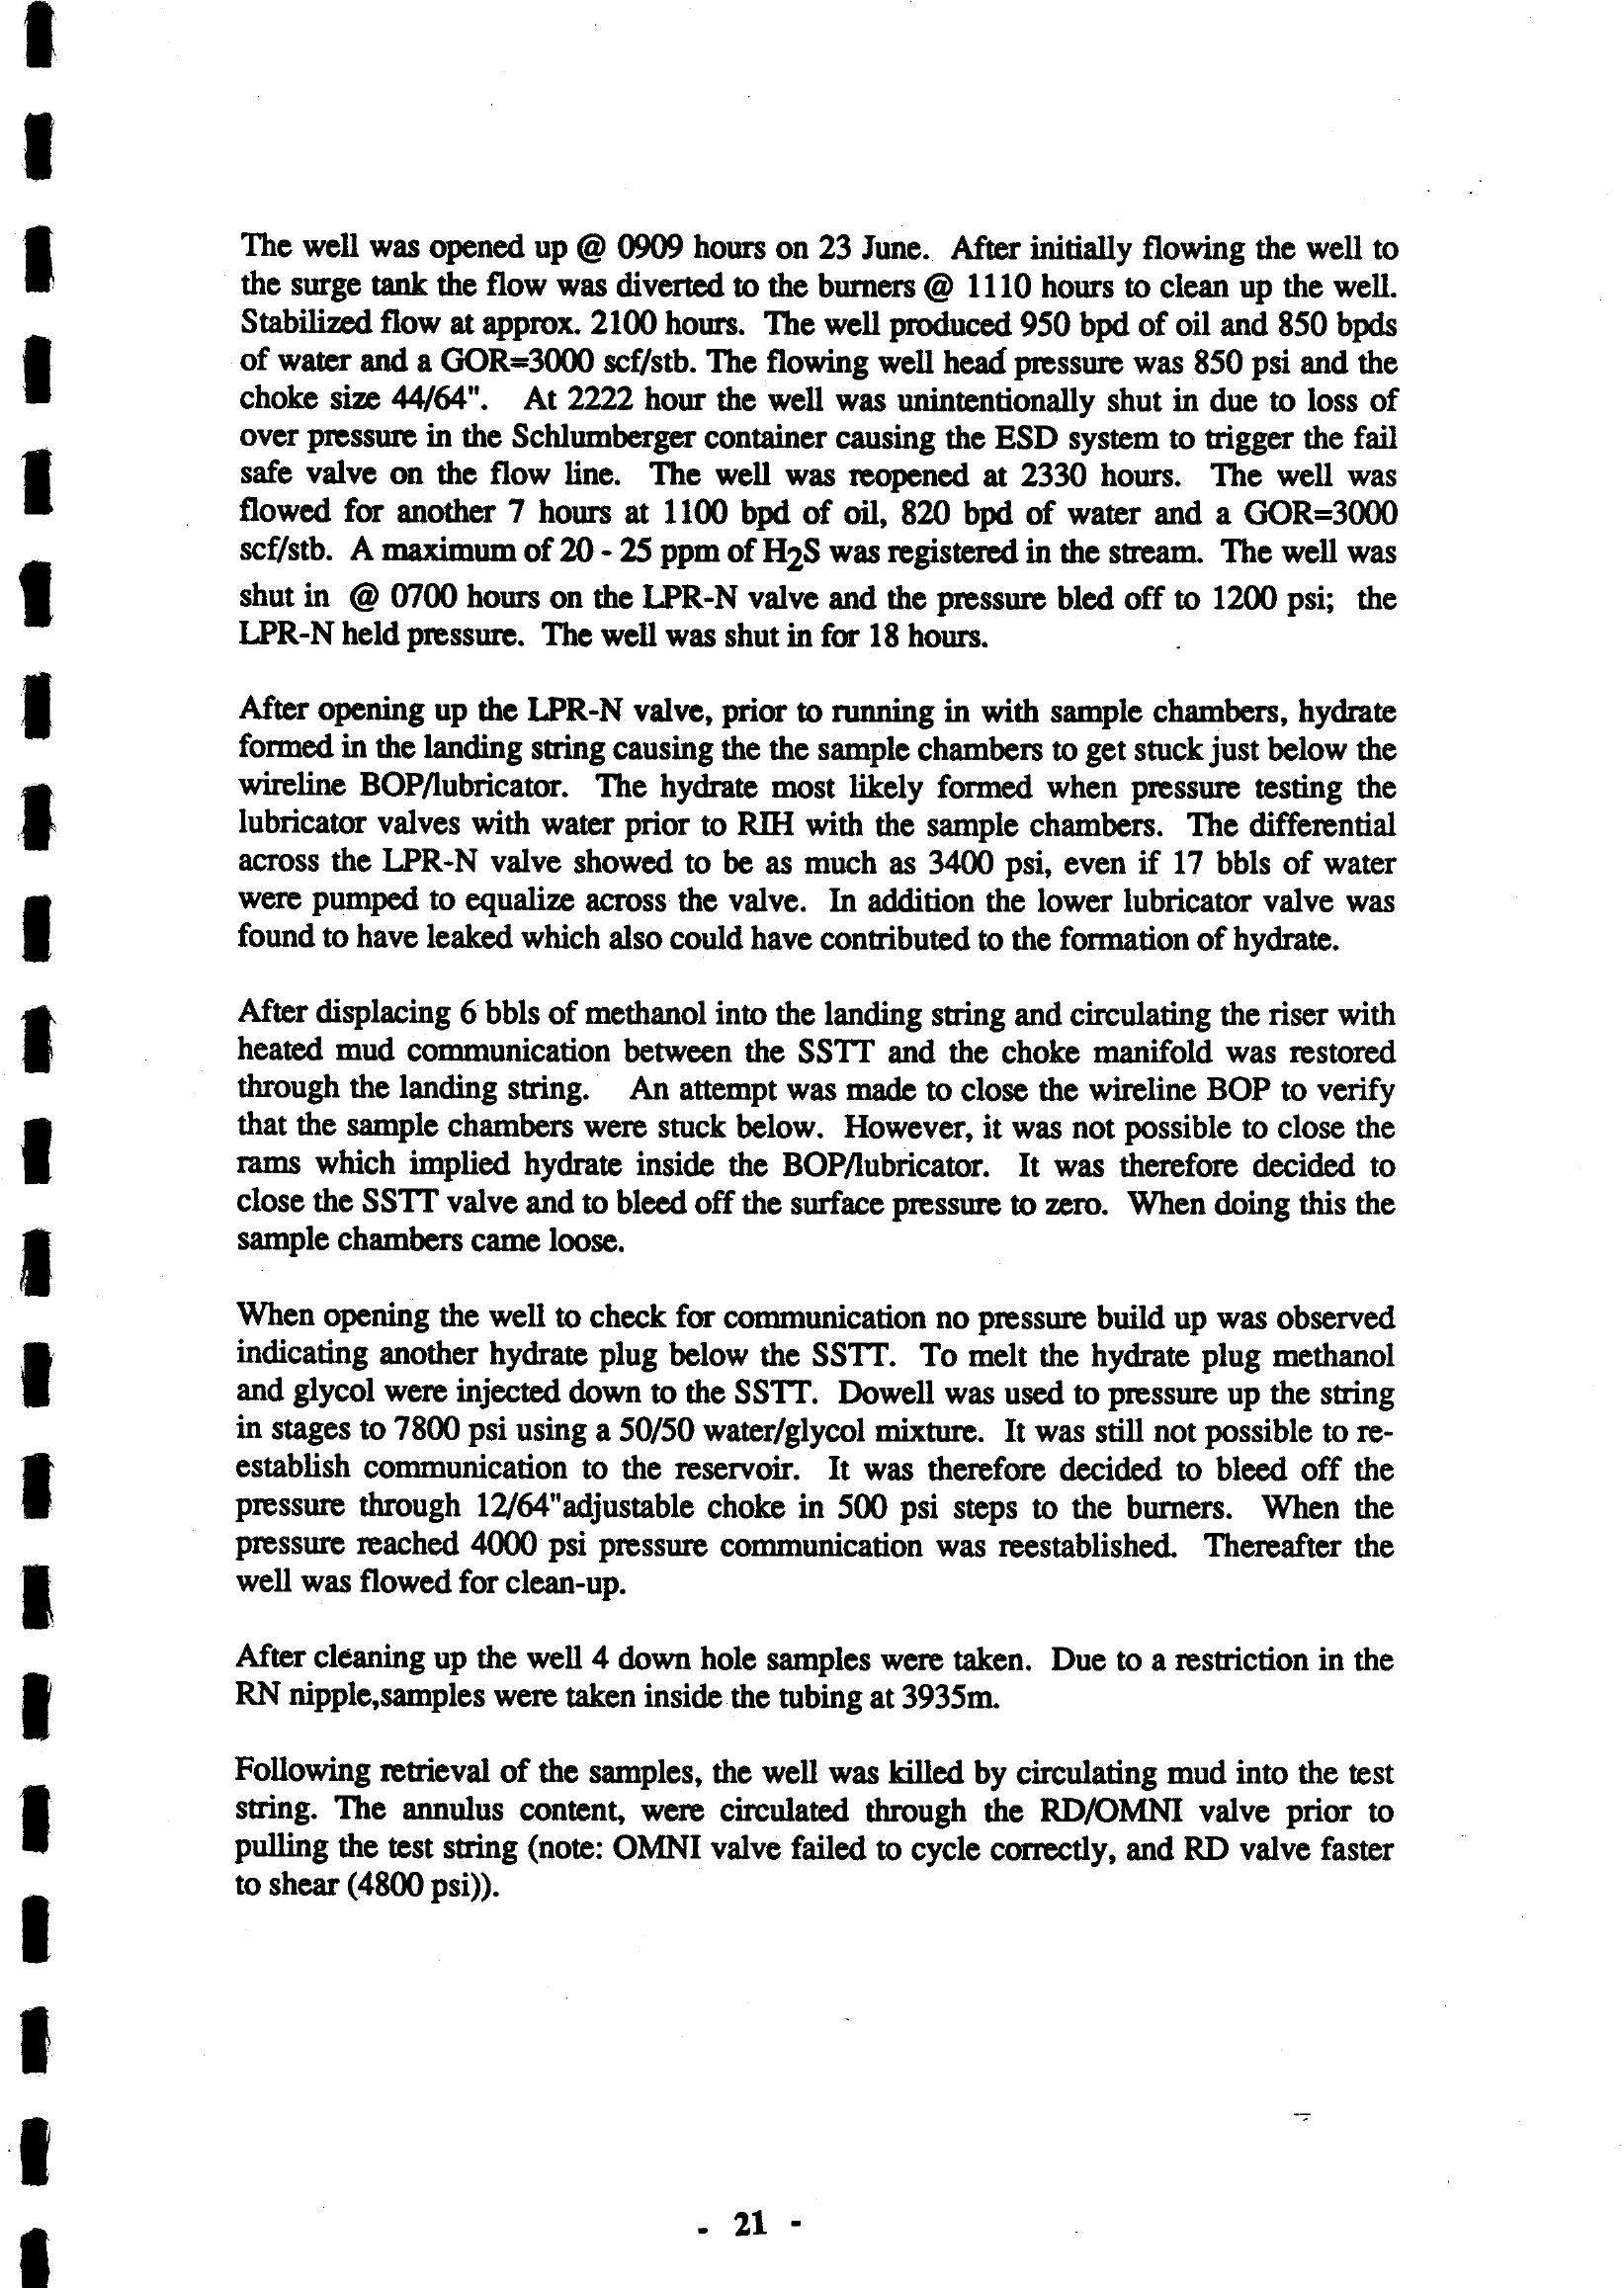text: (202, 170, 1439, 1961)
